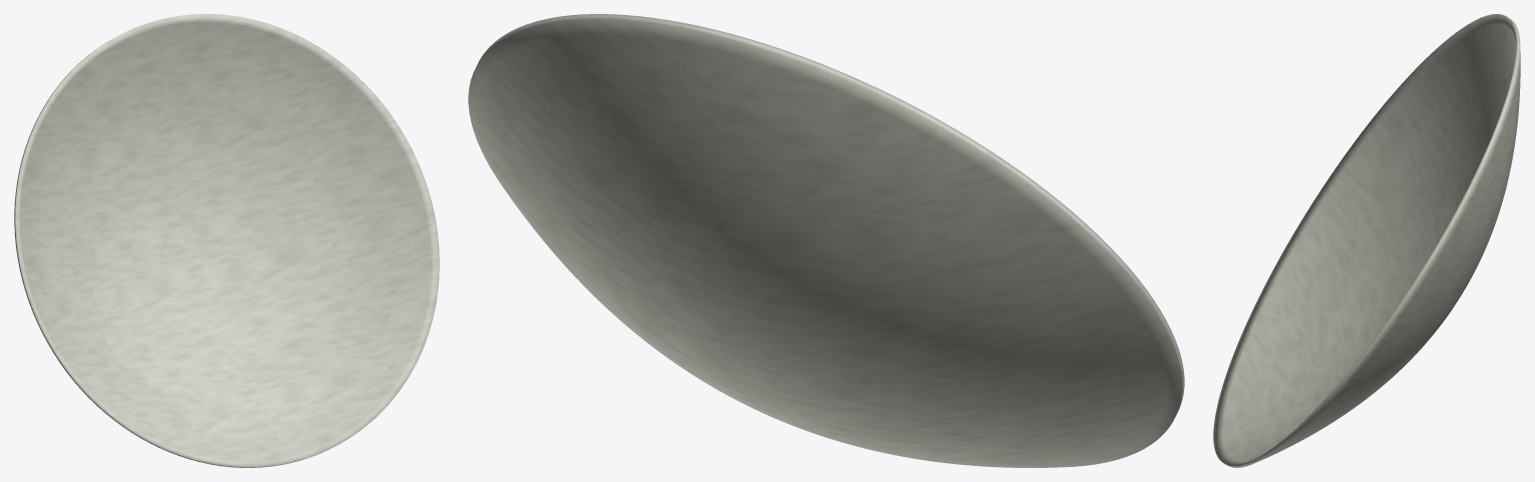
File: Reflector_Continuous.glb
3 renders of one model, left to right at view 1: azimuth 30°, elevation 25°; view 2: azimuth 150°, elevation 25°; view 3: azimuth 270°, elevation 25°, orthographic. The views are drawn at different scales.
Parts seen in each view (by area): view 1: Reflector_Continuous; view 2: Reflector_Continuous; view 3: Reflector_Continuous.
Boxes of the visible parts, bbox=[...] form: Reflector_Continuous: bbox=[14, 14, 439, 467]; Reflector_Continuous: bbox=[468, 14, 1184, 467]; Reflector_Continuous: bbox=[1213, 14, 1520, 467].
Bounding box in the file's own units: 24 × 19.77 × 13.95.
5 materials, 5 textured.
